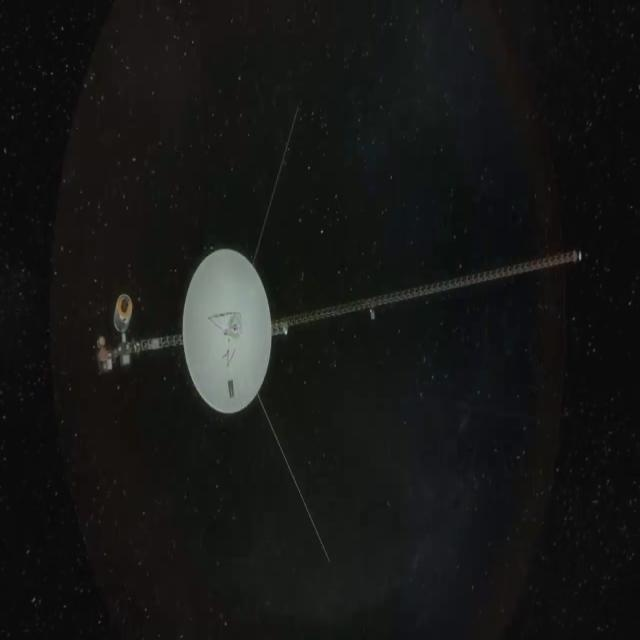medium_debris: (88, 187, 603, 461)
